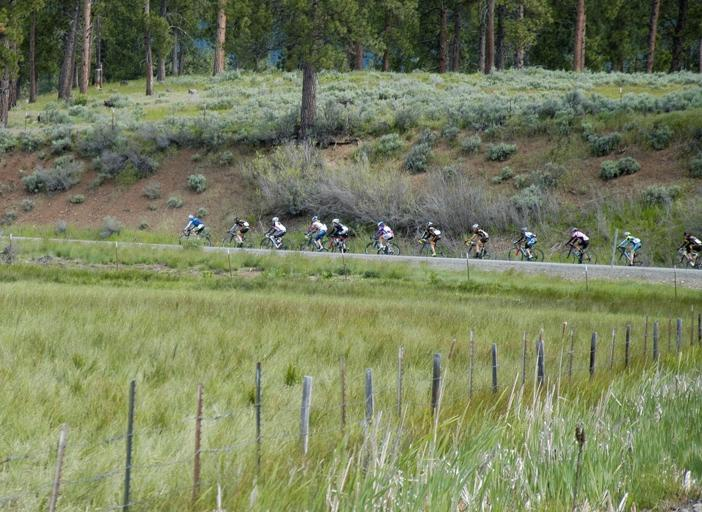non-vehicle: (609, 245, 649, 266), (558, 242, 596, 264), (507, 240, 544, 261), (412, 236, 448, 257), (460, 240, 496, 260), (299, 232, 333, 252), (320, 234, 355, 253), (364, 236, 399, 255), (671, 248, 701, 270), (222, 230, 255, 248), (259, 232, 292, 250), (179, 228, 211, 246)
